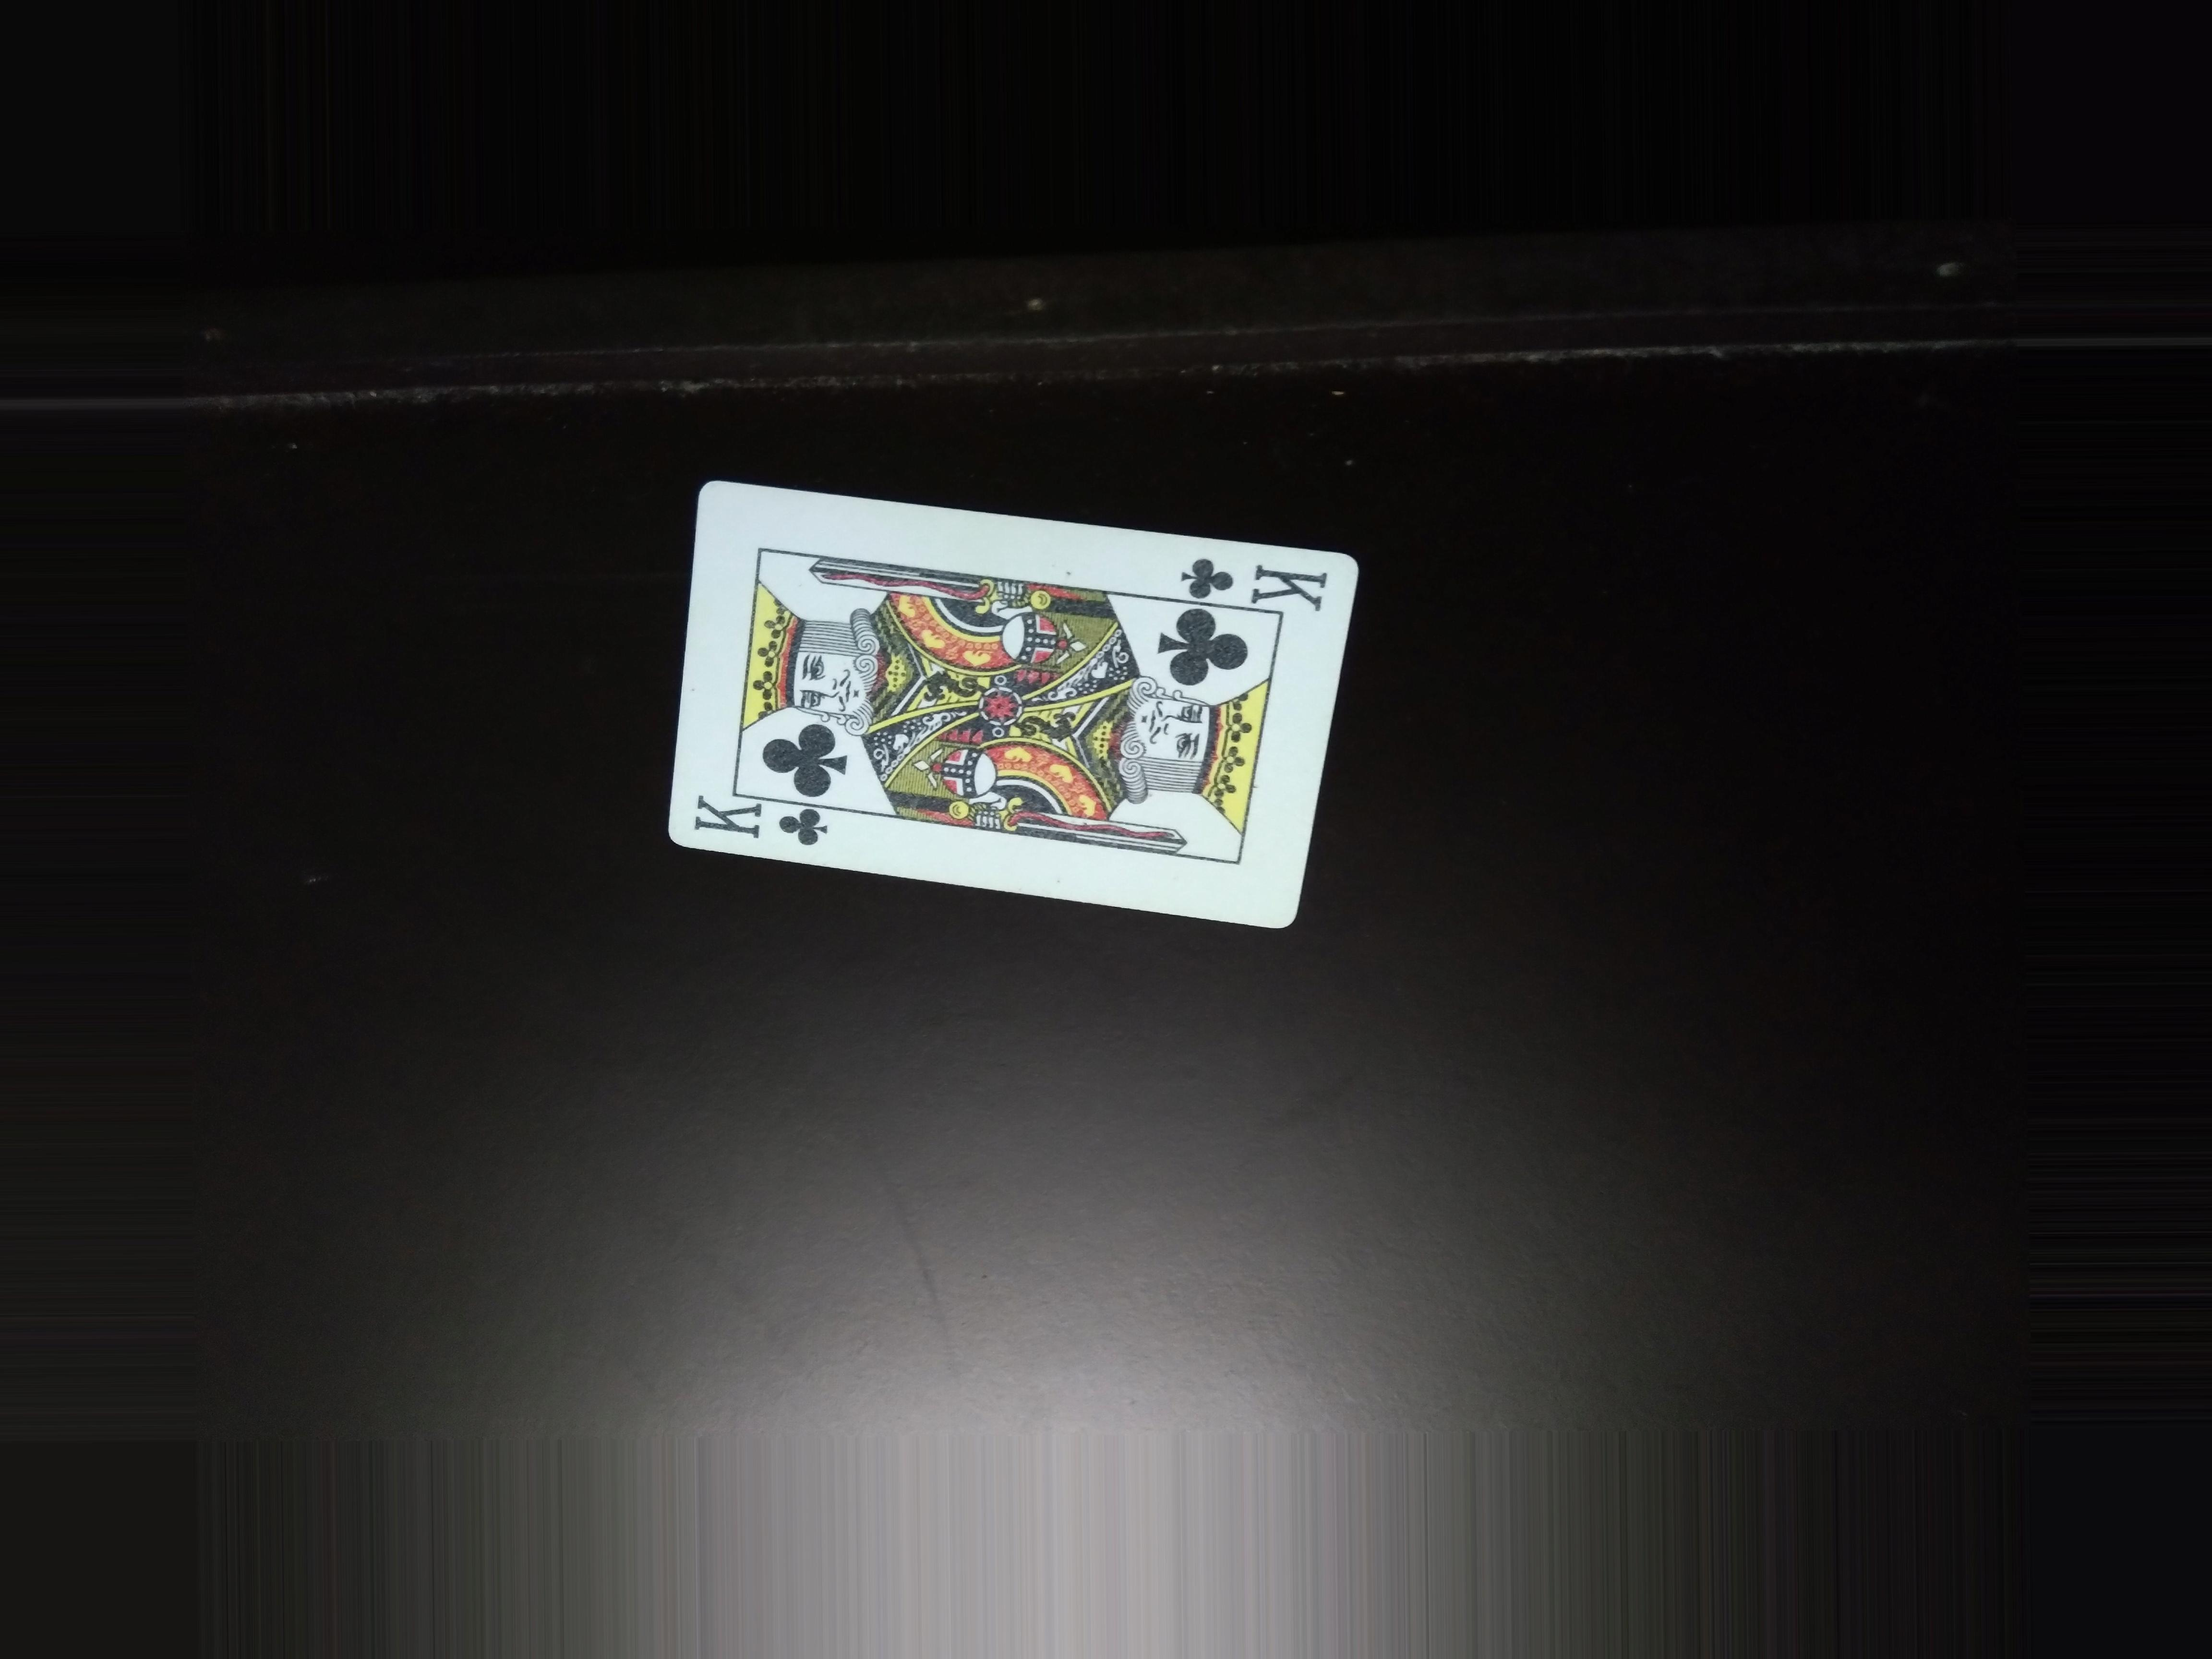KC: (1169, 545, 1332, 615)
